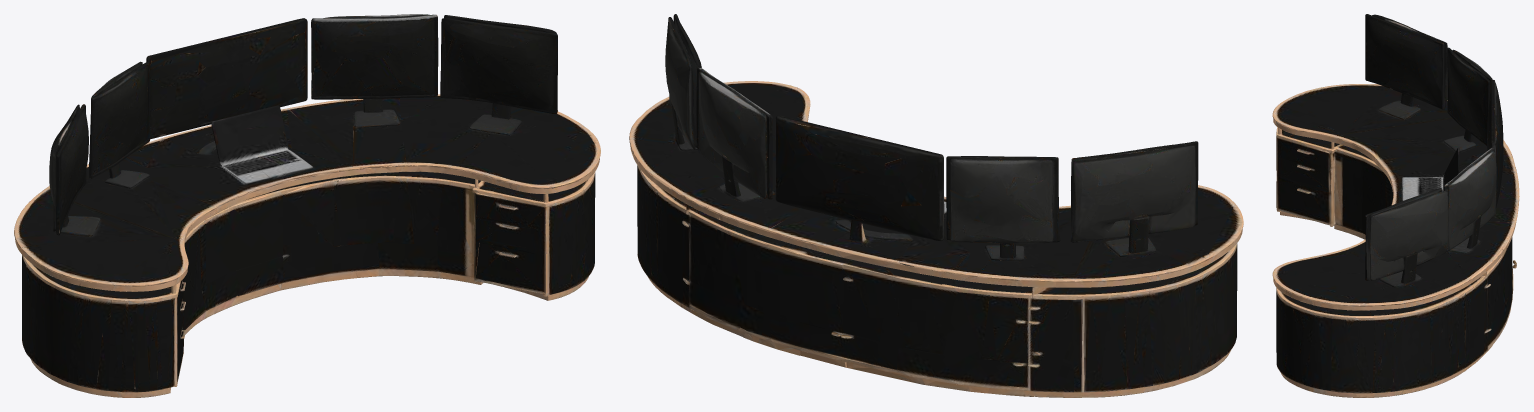
File: desk.glb
3 renders of one model, left to right at view 1: azimuth 30°, elevation 25°; view 2: azimuth 150°, elevation 25°; view 3: azimuth 270°, elevation 25°, orthographic. The views are drawn at different scales.
Parts seen in each view (by area): view 1: room_desk; view 2: room_desk; view 3: room_desk.
Boxes of the visible parts, <box> form: room_desk: <box>14,14,600,397</box>; room_desk: <box>629,14,1243,397</box>; room_desk: <box>1272,14,1519,397</box>.
Size of the model in its own units: 2.9 by 1.09 by 1.37.
Materials: 1 (1 with a texture image).
